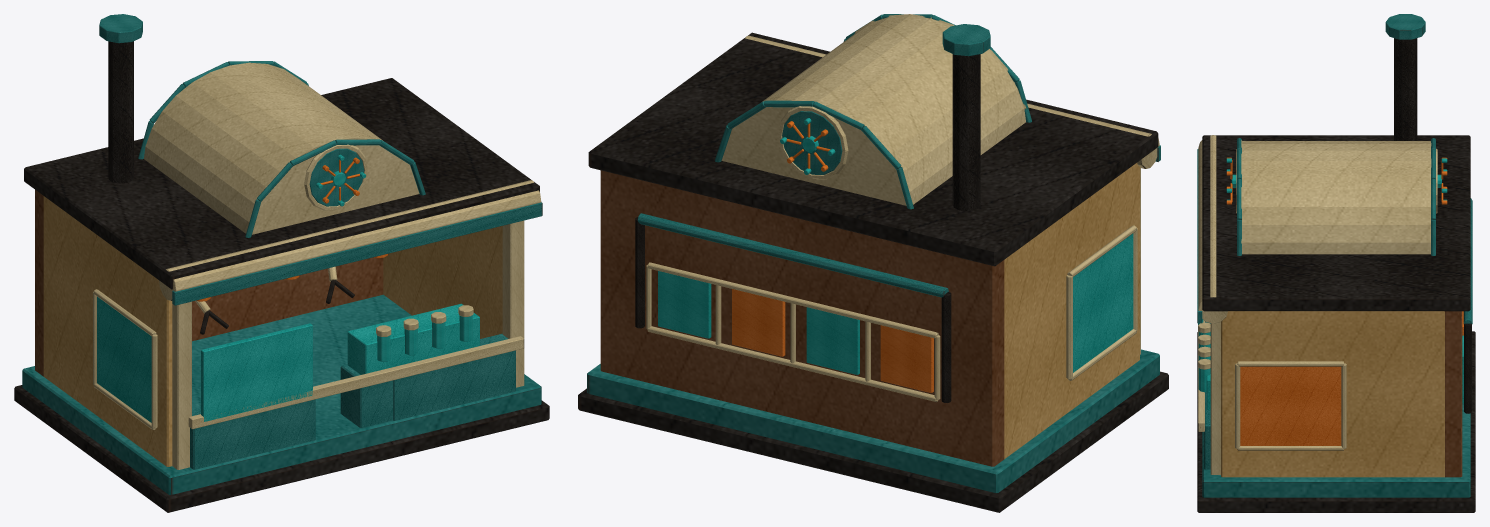
The model's file is isotope-kitchen.glb.
3 views of the same model, side by side, from view 1: azimuth 30°, elevation 25°; view 2: azimuth 150°, elevation 25°; view 3: azimuth 270°, elevation 25° (orthographic). The views are drawn at different scales.
Parts seen in each view (by area): view 1: IsotopeKitchenE6; view 2: IsotopeKitchenE6; view 3: IsotopeKitchenE6.
Boxes of the visible parts, x1,y1,x2,y2 form: IsotopeKitchenE6: [14, 14, 549, 512]; IsotopeKitchenE6: [578, 14, 1168, 512]; IsotopeKitchenE6: [1197, 14, 1475, 512].
Size of the model in its own units: 4.75 by 4.62 by 3.3.
1 material, 1 textured.
